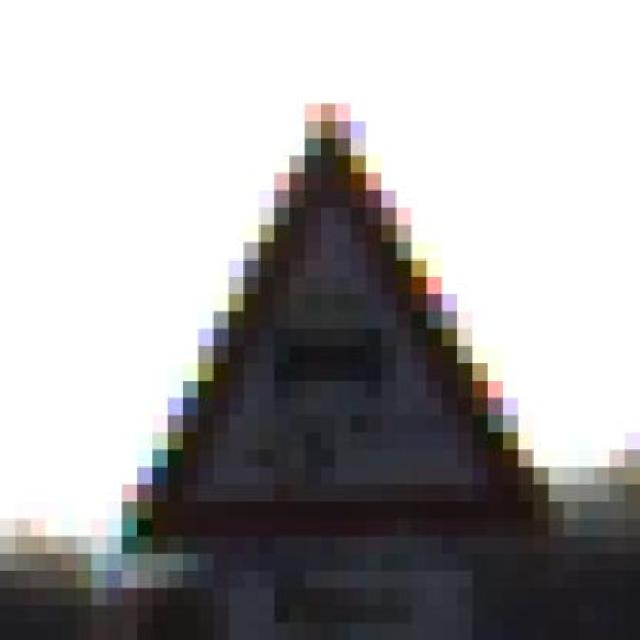Slippery Road Ahead: (107, 86, 579, 571)
